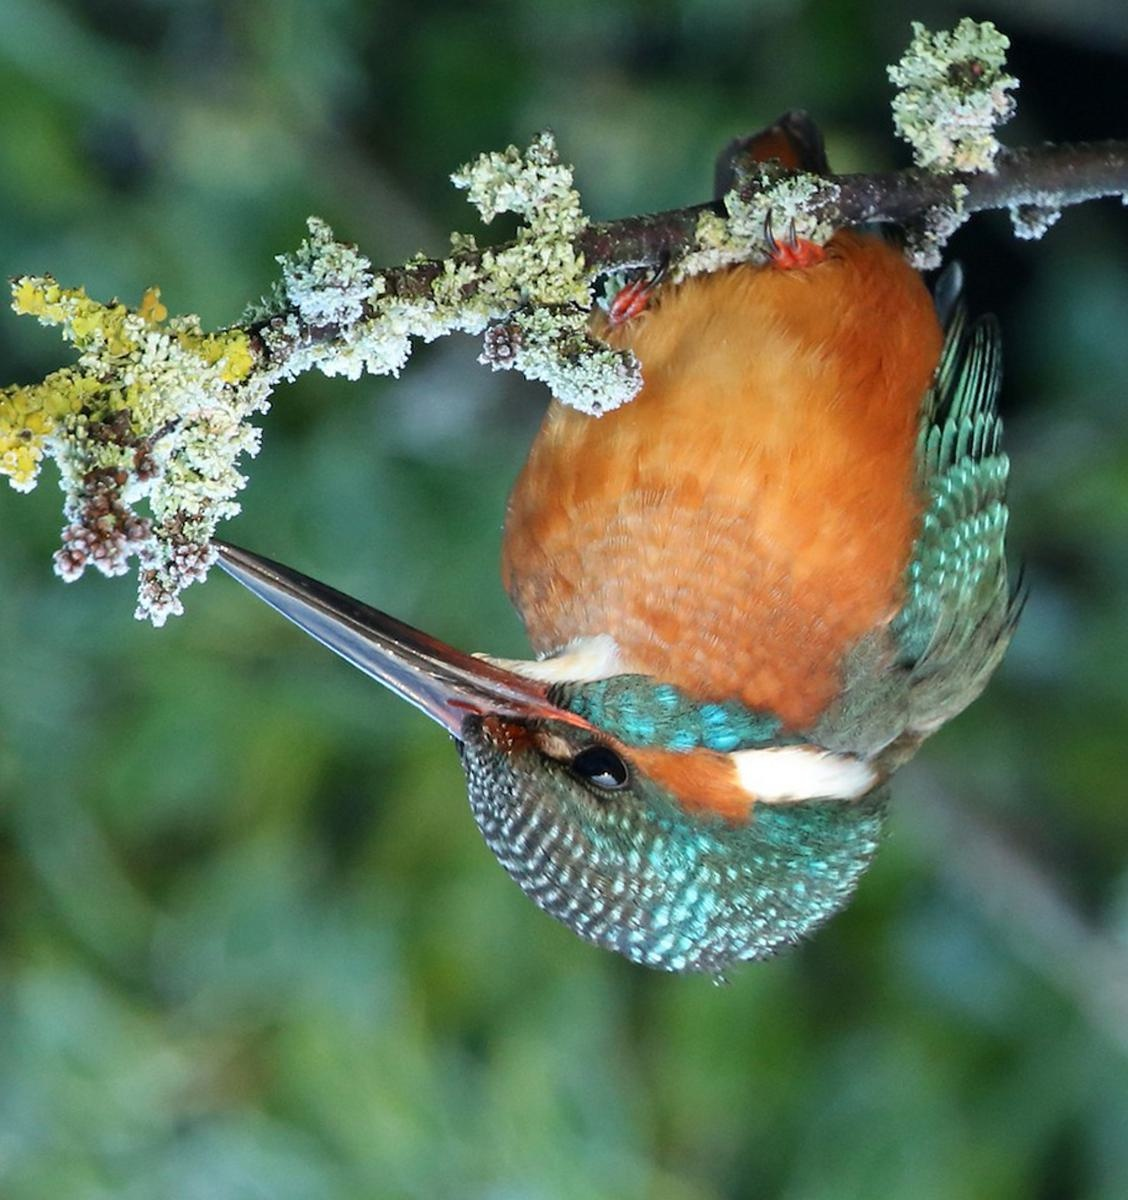kingfisher: (198, 120, 1043, 983)
